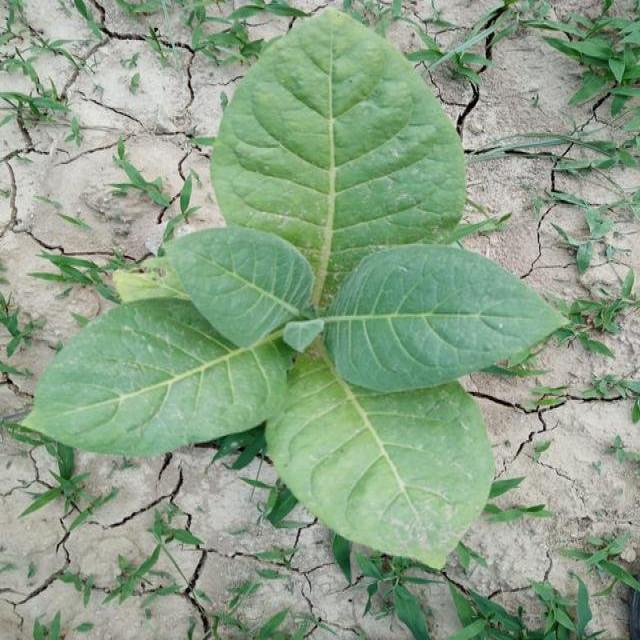crop: (56, 26, 558, 555)
